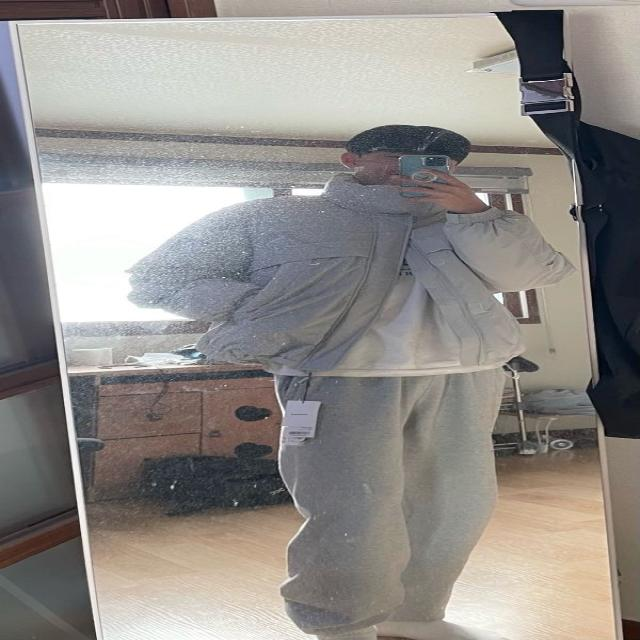padding: (130, 171, 570, 369)
trainingpants: (273, 360, 508, 628)
